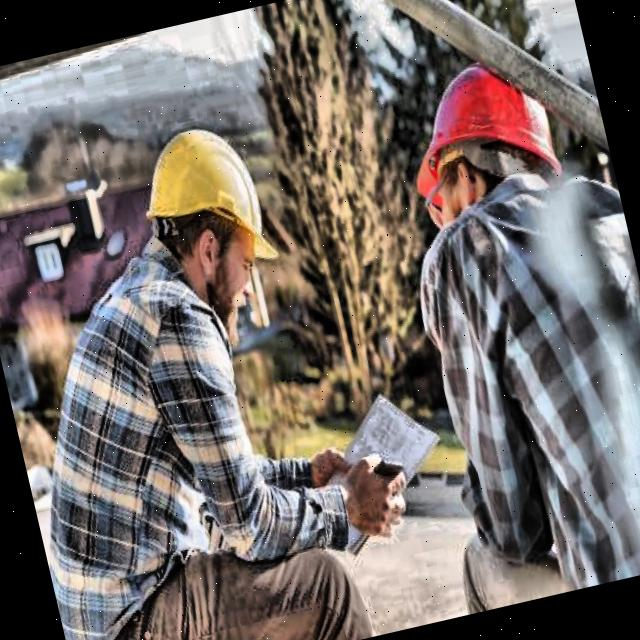helmet: (372, 24, 582, 287), (127, 105, 294, 342)
